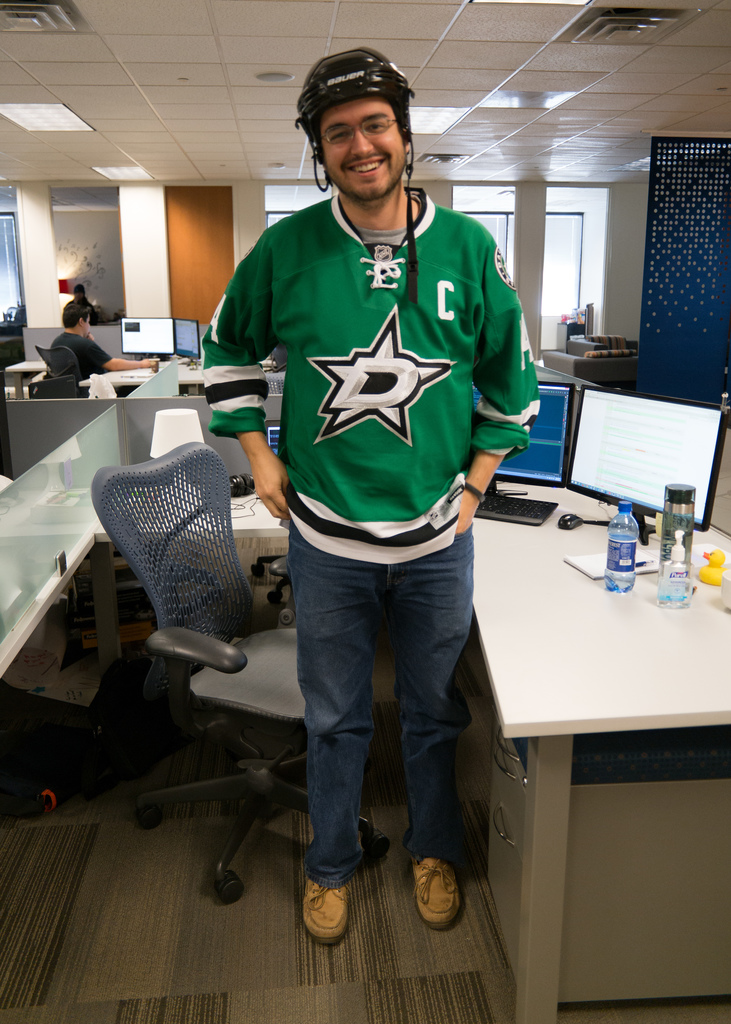Human-face: (325, 97, 408, 197)
